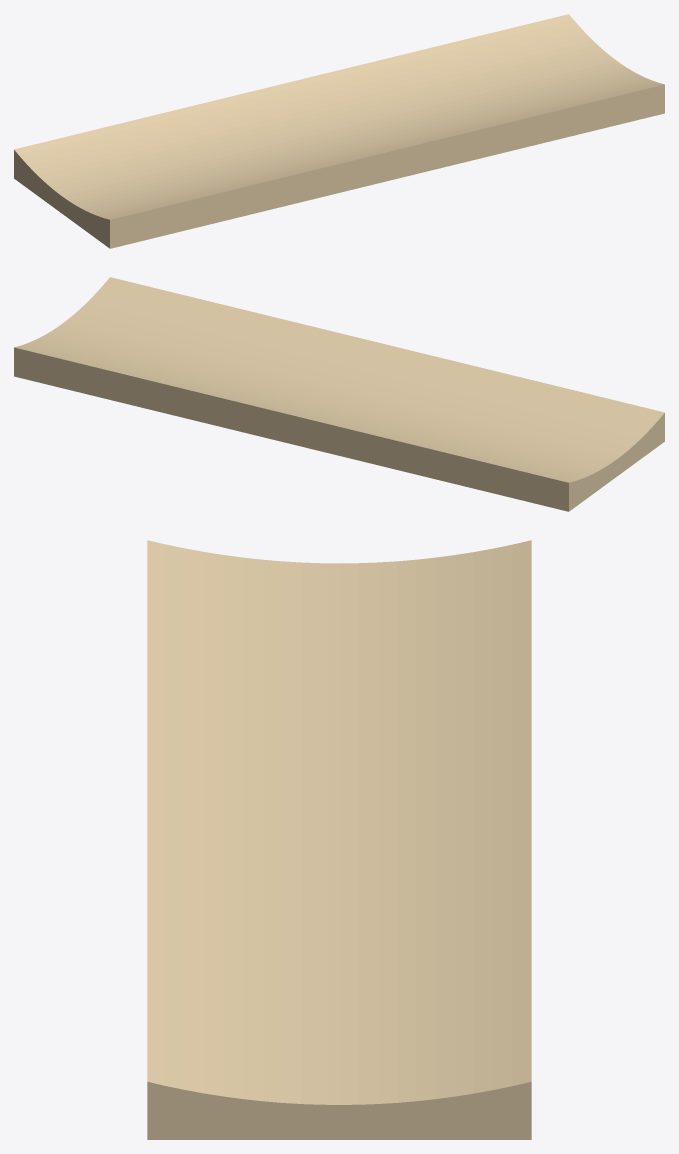
The model's file is desert-canyons-and-oases-slot-floor-tile-07f72760__20917.glb.
3 renders of one model, top to bottom at view 1: azimuth 30°, elevation 25°; view 2: azimuth 150°, elevation 25°; view 3: azimuth 270°, elevation 25°, orthographic. The views are drawn at different scales.
Visible parts, largest first — view 1: slot-floor-tile; view 2: slot-floor-tile; view 3: slot-floor-tile.
Boxes of the visible parts, <box> form: slot-floor-tile: <box>14,14,664,248</box>; slot-floor-tile: <box>14,277,664,511</box>; slot-floor-tile: <box>147,540,531,1139</box>.
Size of the model in its own units: 4 by 0.2002 by 1.2.
